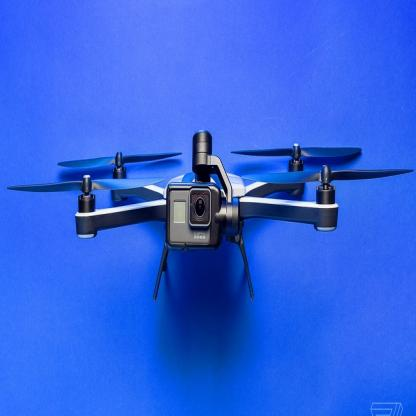drone: (37, 139, 414, 277)
